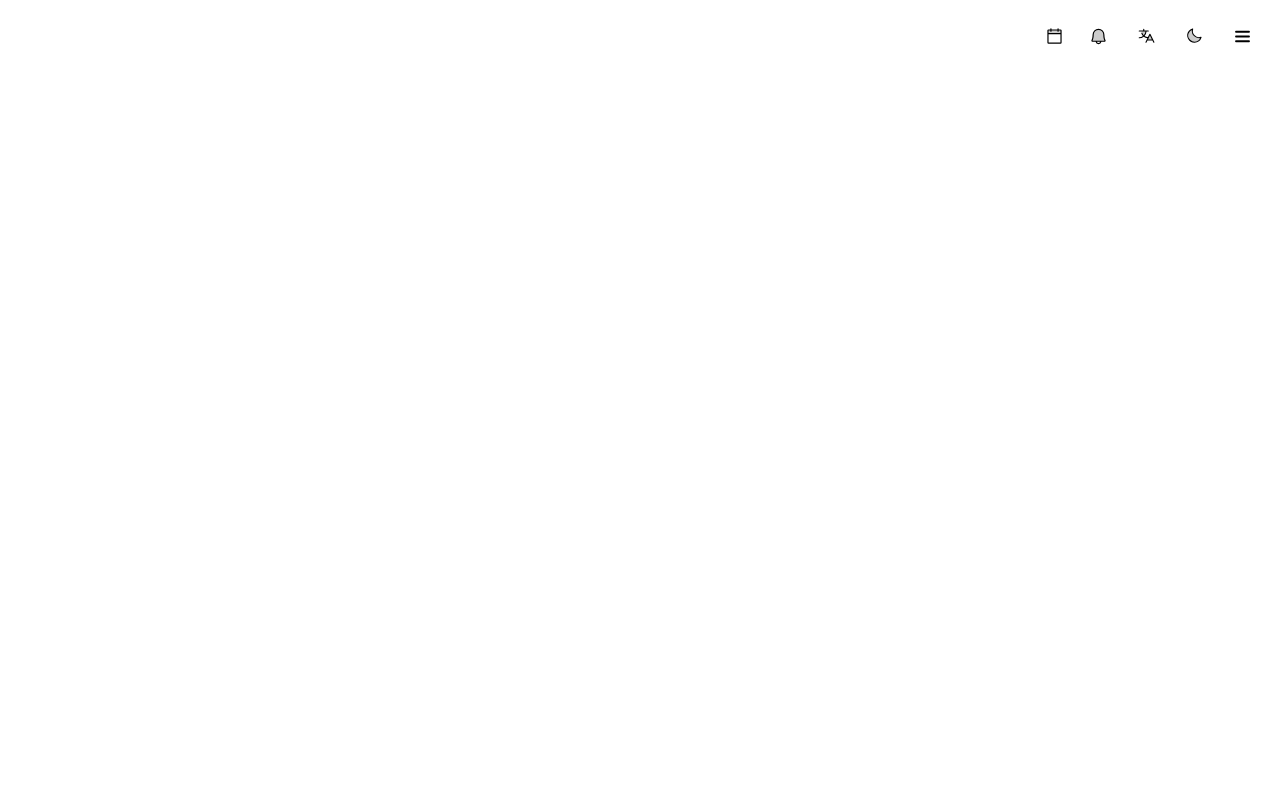
Test: shows retry on failure and never mistakes the failure for an empty calendar
This screenshot has width=1280, height=800.
Click the button named "日历" at (1054, 36), box [1032,14,1076,58]
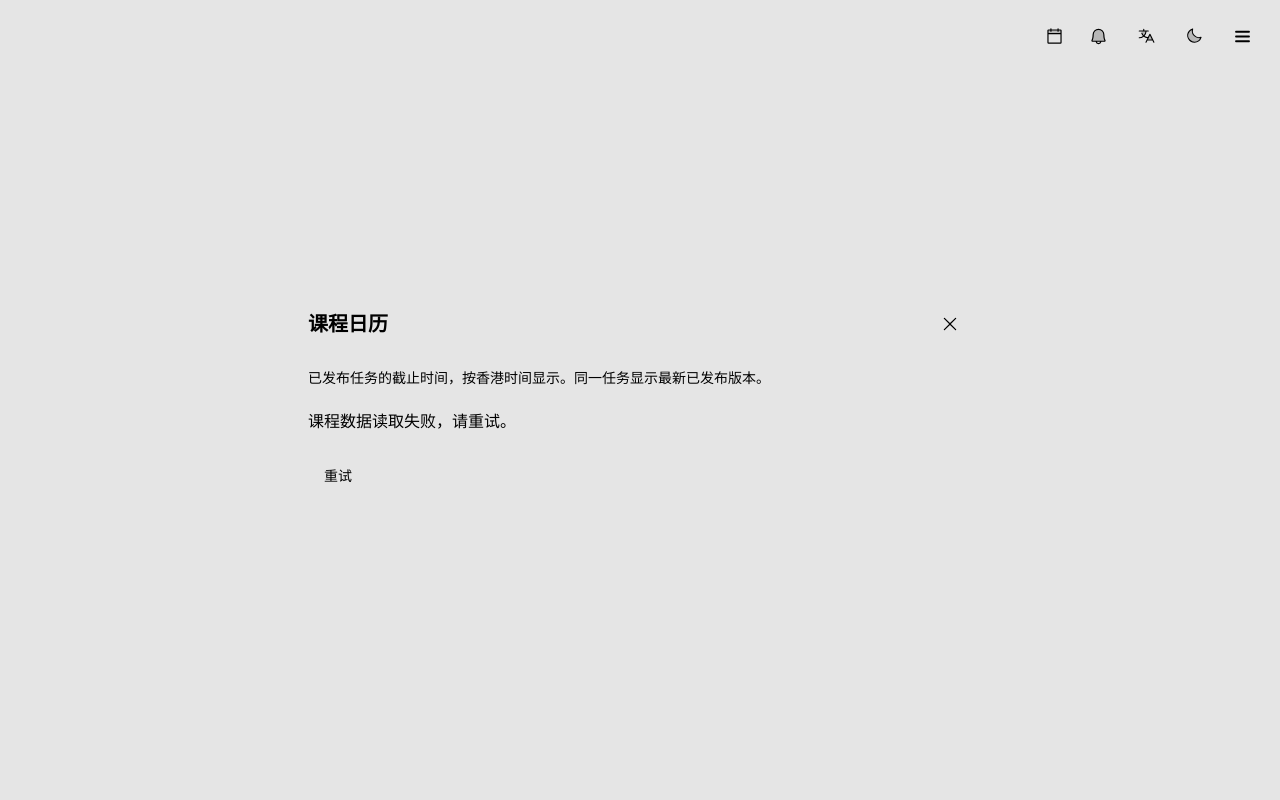
Check: the message "课程数据读取失败，请重试。" is shown, box [308,413,516,430]
Check: the button "重试" is shown, box [308,454,368,498]
